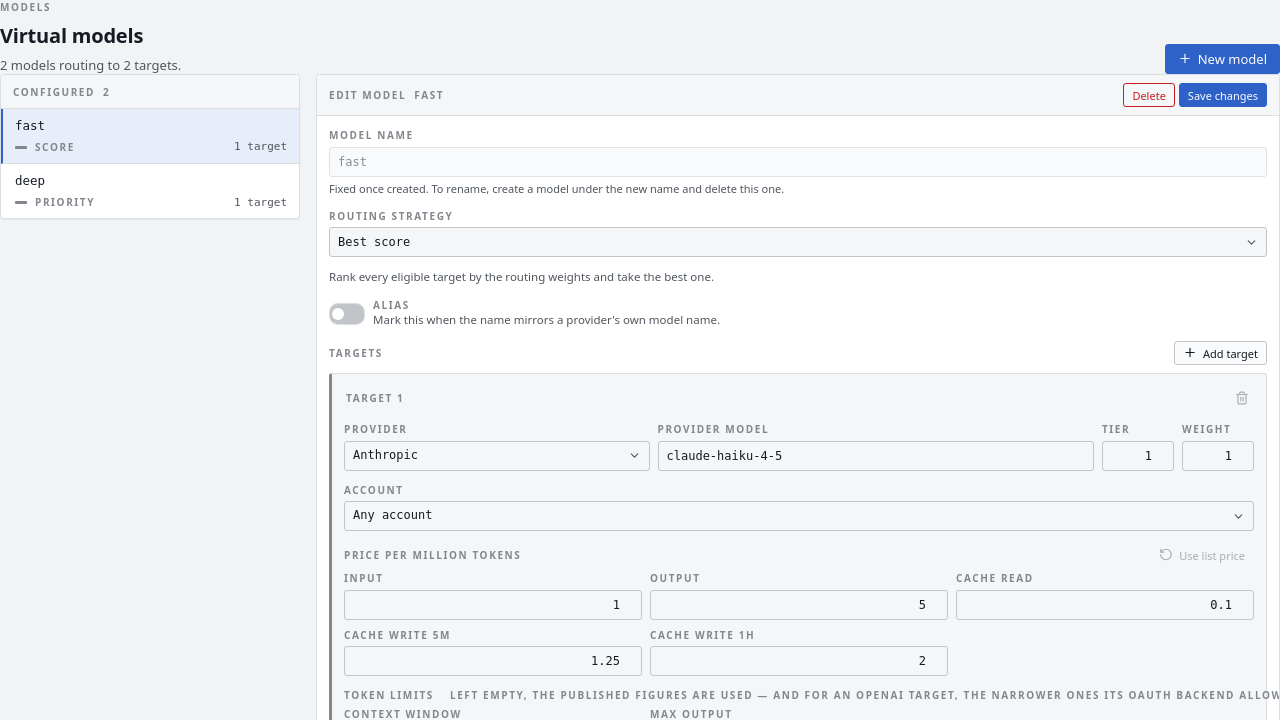
Scenario: ModelsBoard › a new model needs a name before it is sent
Expected: the text "Edit model" is shown, left=329, top=88, right=406, bottom=103
Step 1. Click the button "New model" → (1222, 59), box left=1165, top=44, right=1279, bottom=74
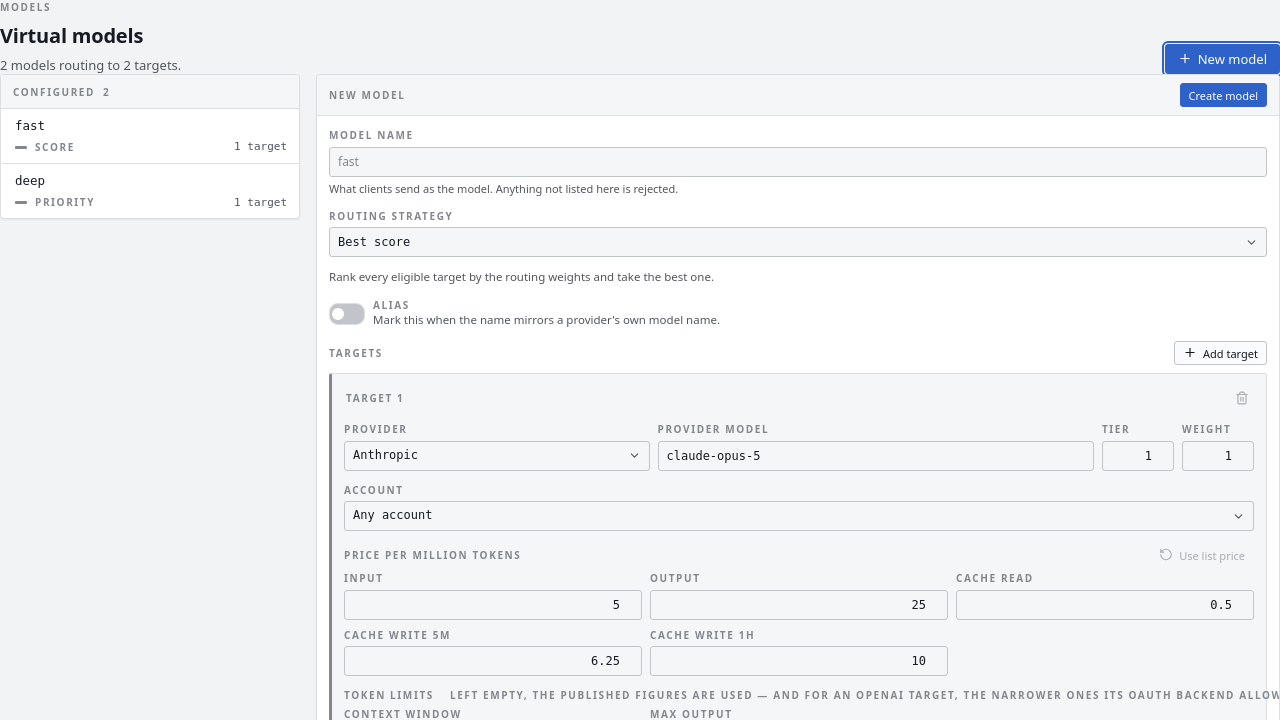
Step 2. Click the button "Create model" → (1223, 95), box left=1180, top=83, right=1267, bottom=107
(page scrolled)
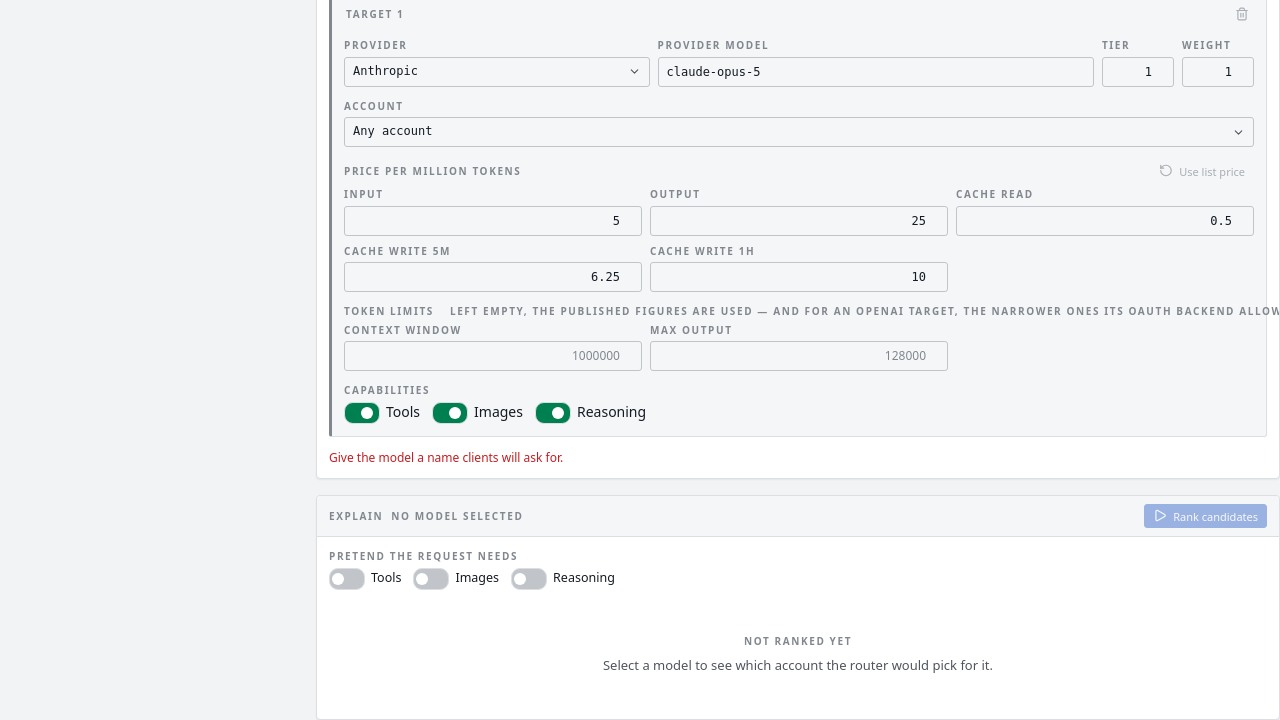
Expected: the message reads "Give the model a name clients will ask for.", left=329, top=449, right=563, bottom=466
